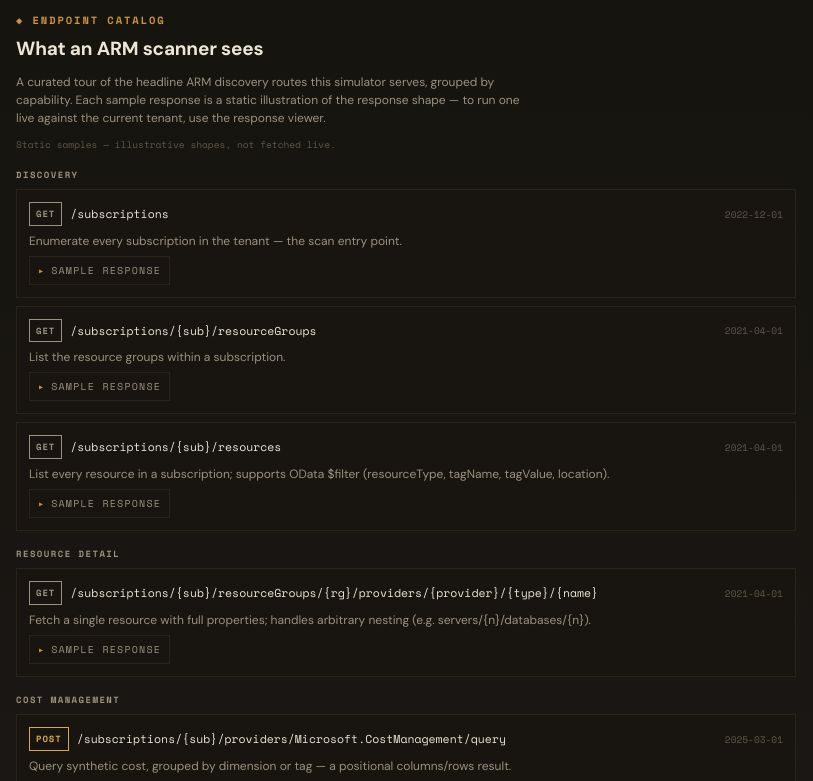
CatalogView — DEMO-01 endpoint catalog › lazily mounts the JsonTree only after the Sample response disclosure is expanded
Click the 1st button "▸ Sample response": (100, 270) [29,256,170,284]
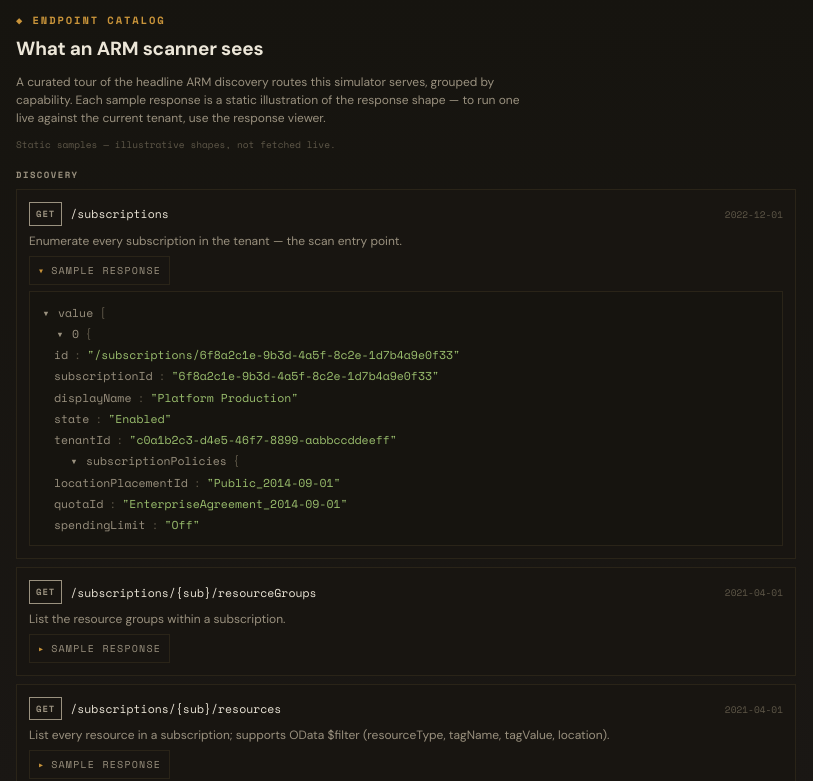
Result: the element that starts with "value" is shown at [40,304,460,533]
